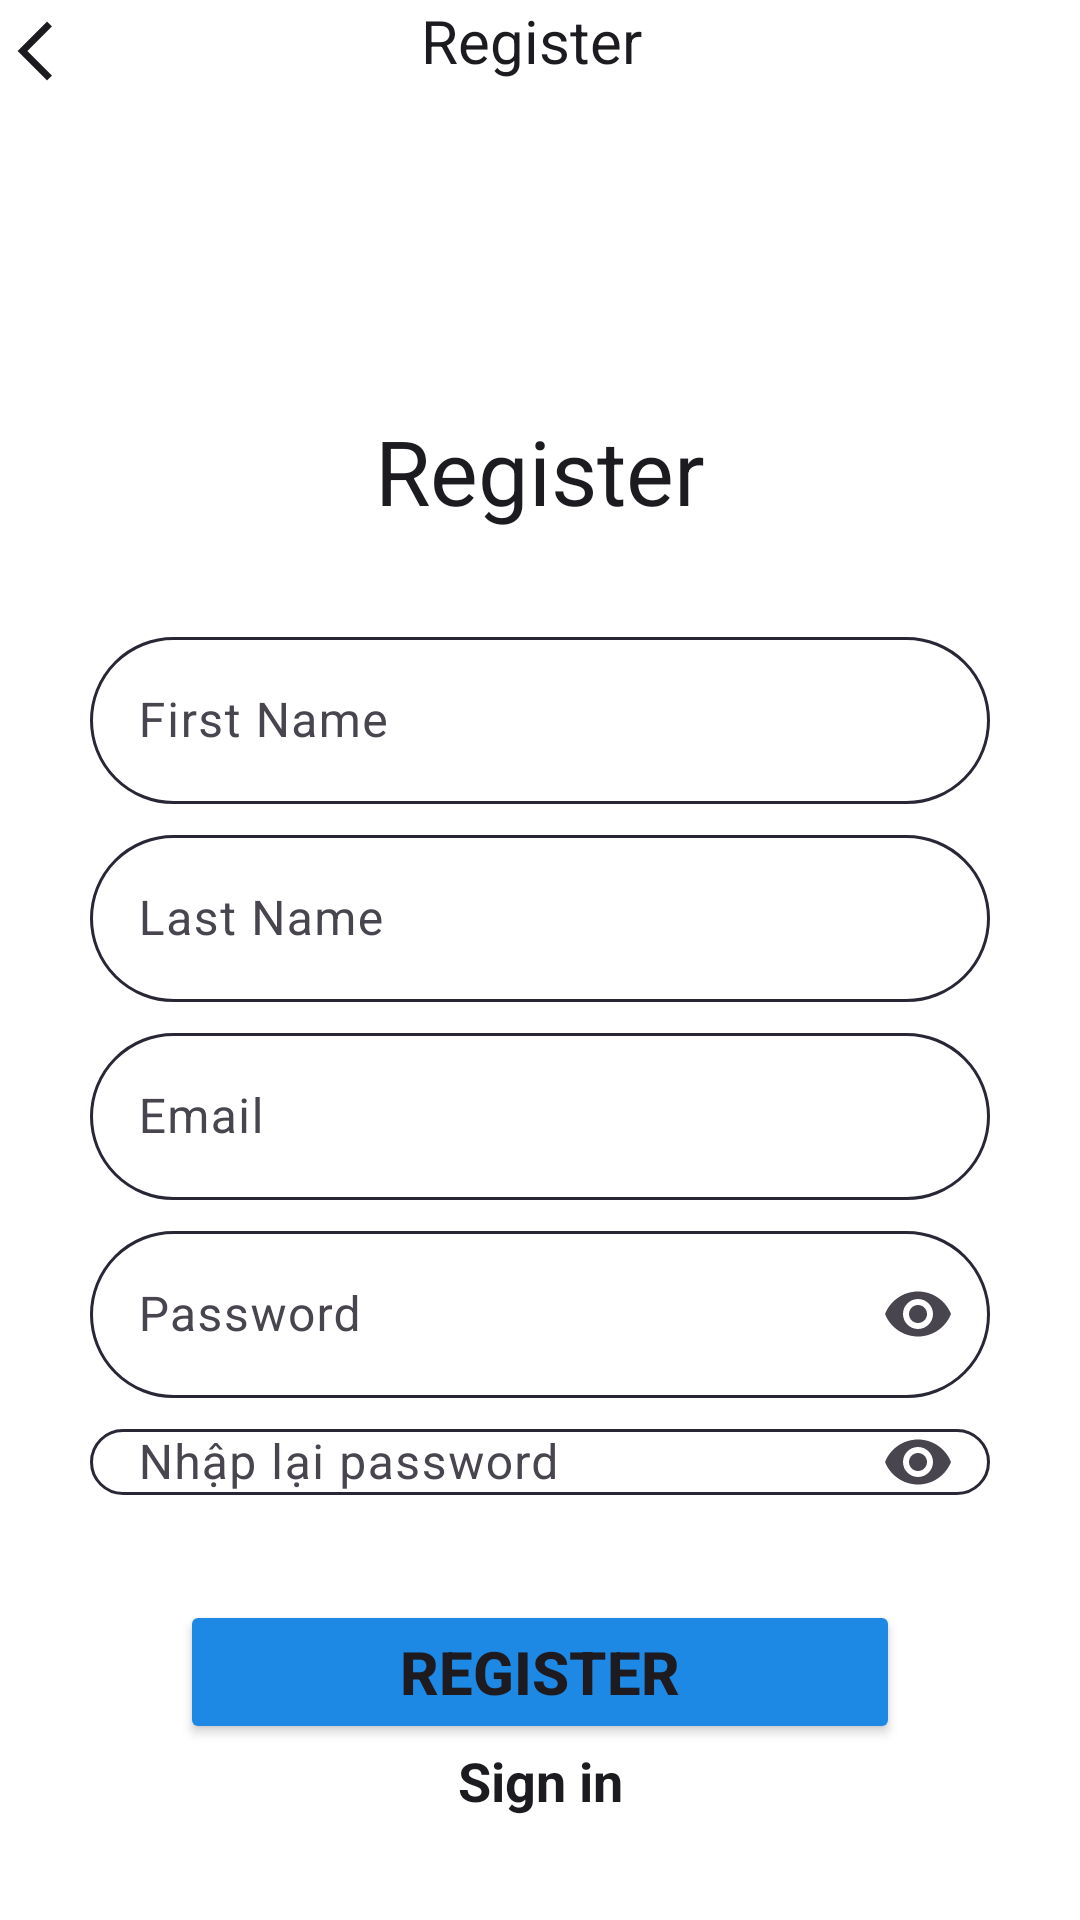

Screen size 1080 x 1920. Icon name, then its center in pixels as (x=x, y=y):
back: (x=35, y=51)
